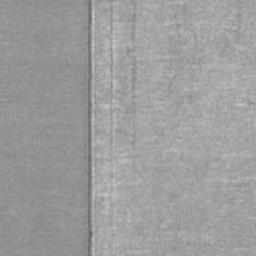Welding line: (86, 0, 96, 256)
